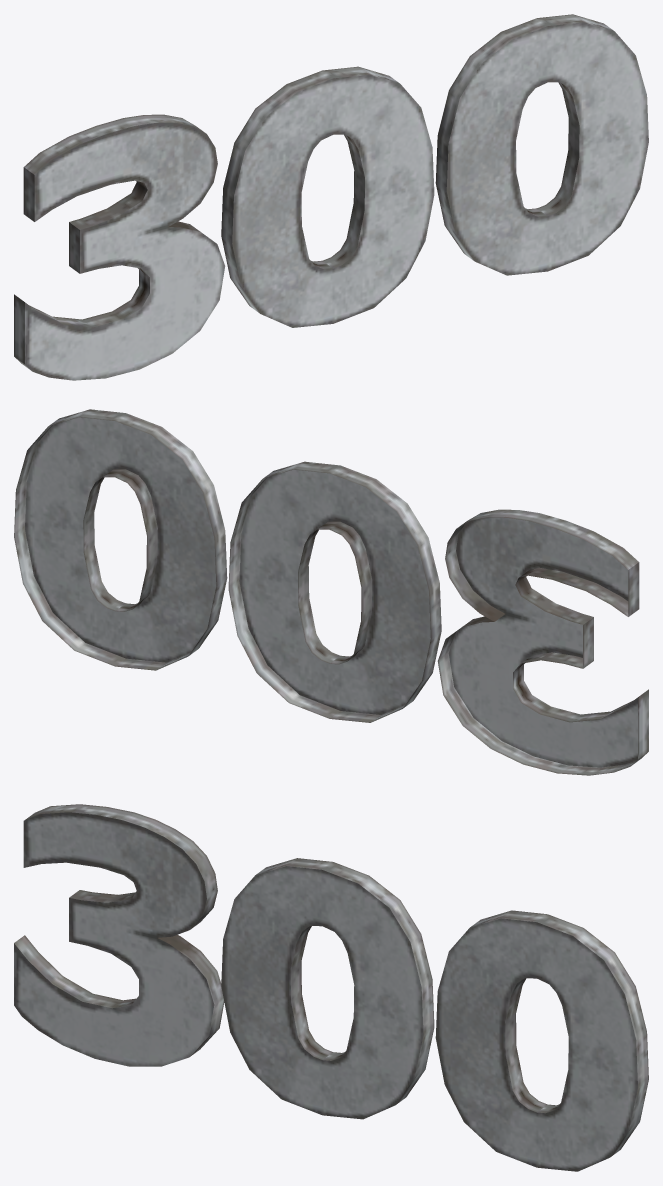
File: categorySign300.FBX
3 views of the same model, one above another, from view 1: azimuth 30°, elevation 25°; view 2: azimuth 150°, elevation 25°; view 3: azimuth 330°, elevation 25° (orthographic).
Parts seen in each view (by area): view 1: SM_CategorySign300; view 2: SM_CategorySign300; view 3: SM_CategorySign300.
Part boxes in pixels (left/top/right/bottom): SM_CategorySign300: left=14, top=14, right=648, bottom=380; SM_CategorySign300: left=14, top=409, right=648, bottom=775; SM_CategorySign300: left=14, top=804, right=648, bottom=1171.
Bounding box in the file's own units: 6.61 × 2.49 × 0.2.
1 material, 1 textured.
